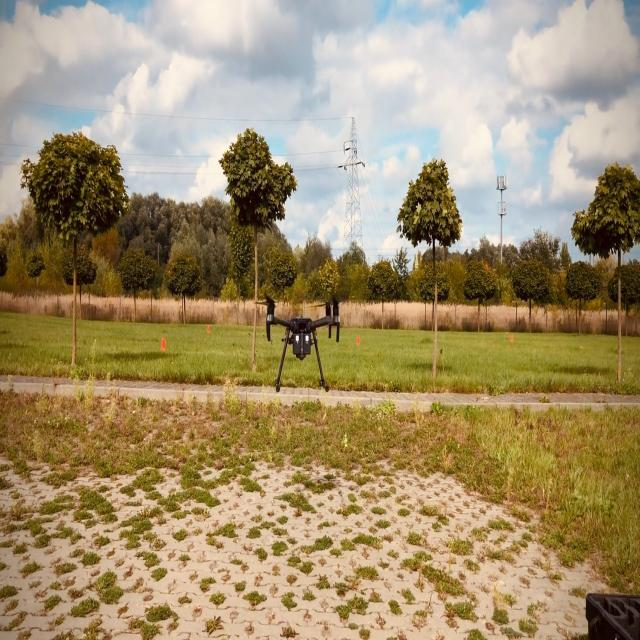drone: (253, 293, 340, 393)
